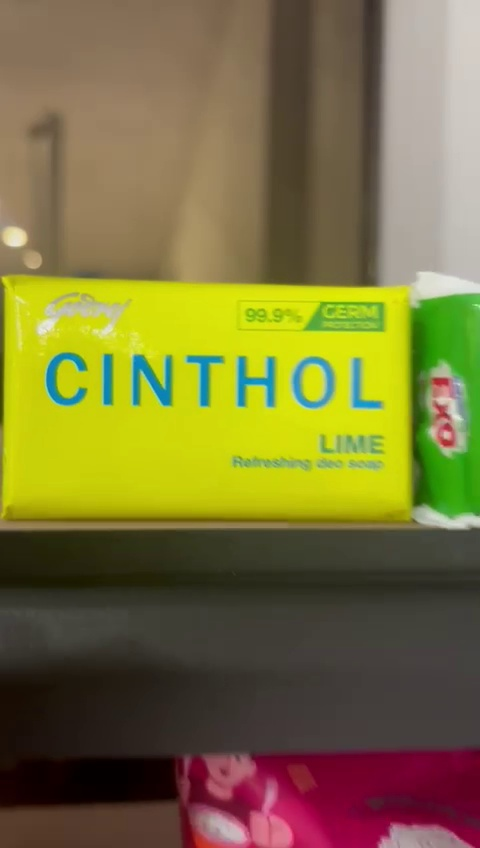Cinthol: (1, 273, 410, 521)
